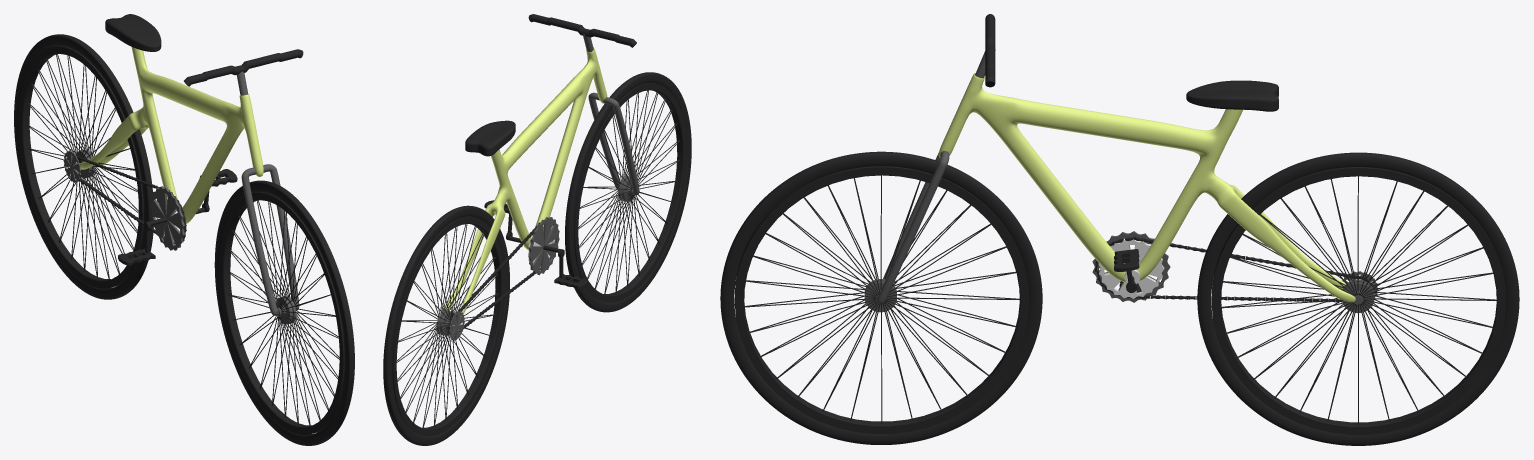
File: properly_arranged_cycles.fbx
3 renders of one model, left to right at view 1: azimuth 30°, elevation 25°; view 2: azimuth 150°, elevation 25°; view 3: azimuth 270°, elevation 25°, orthographic. The views are drawn at different scales.
Parts seen in each view (by area): view 1: front wheel, rear wheel, Body, Star001, saddle, Line002, handlebar, Line001, Pedal, Pedal001, Star002, Cylinder001; view 2: front wheel, rear wheel, Body, Star001, saddle, handlebar, Line002, Pedal, Line001, Star002; view 3: front wheel, rear wheel, Body, saddle, Line001, Star004, Star001, handlebar.
Part boxes in pixels (x1=…): front wheel: x1=214, y1=180, x2=354, y2=445; rear wheel: x1=14, y1=34, x2=153, y2=299; Body: x1=79, y1=47, x2=263, y2=223; Star001: x1=150, y1=186, x2=184, y2=250; saddle: x1=105, y1=14, x2=161, y2=51; Line002: x1=241, y1=167, x2=278, y2=315; handlebar: x1=184, y1=49, x2=303, y2=86; Line001: x1=263, y1=164, x2=299, y2=310; Pedal: x1=118, y1=217, x2=167, y2=265; Pedal001: x1=196, y1=169, x2=237, y2=213; Star002: x1=63, y1=150, x2=80, y2=182; Cylinder001: x1=277, y1=296, x2=296, y2=324; front wheel: x1=565, y1=72, x2=691, y2=312; rear wheel: x1=383, y1=205, x2=509, y2=445; Body: x1=444, y1=47, x2=607, y2=316; Star001: x1=528, y1=217, x2=559, y2=275; saddle: x1=465, y1=120, x2=515, y2=156; handlebar: x1=528, y1=14, x2=636, y2=47; Line002: x1=603, y1=97, x2=639, y2=195; Pedal: x1=543, y1=245, x2=588, y2=288; Line001: x1=588, y1=92, x2=619, y2=188; Star002: x1=449, y1=311, x2=464, y2=340; front wheel: x1=720, y1=151, x2=1042, y2=444; rear wheel: x1=1197, y1=152, x2=1519, y2=445; Body: x1=938, y1=73, x2=1355, y2=302; saddle: x1=1186, y1=80, x2=1278, y2=111; Line001: x1=876, y1=151, x2=949, y2=304; Star004: x1=1098, y1=238, x2=1164, y2=298; Star001: x1=1092, y1=231, x2=1170, y2=302; handlebar: x1=985, y1=14, x2=995, y2=87.
Size of the model in its own units: 54.79 by 146 by 262.
